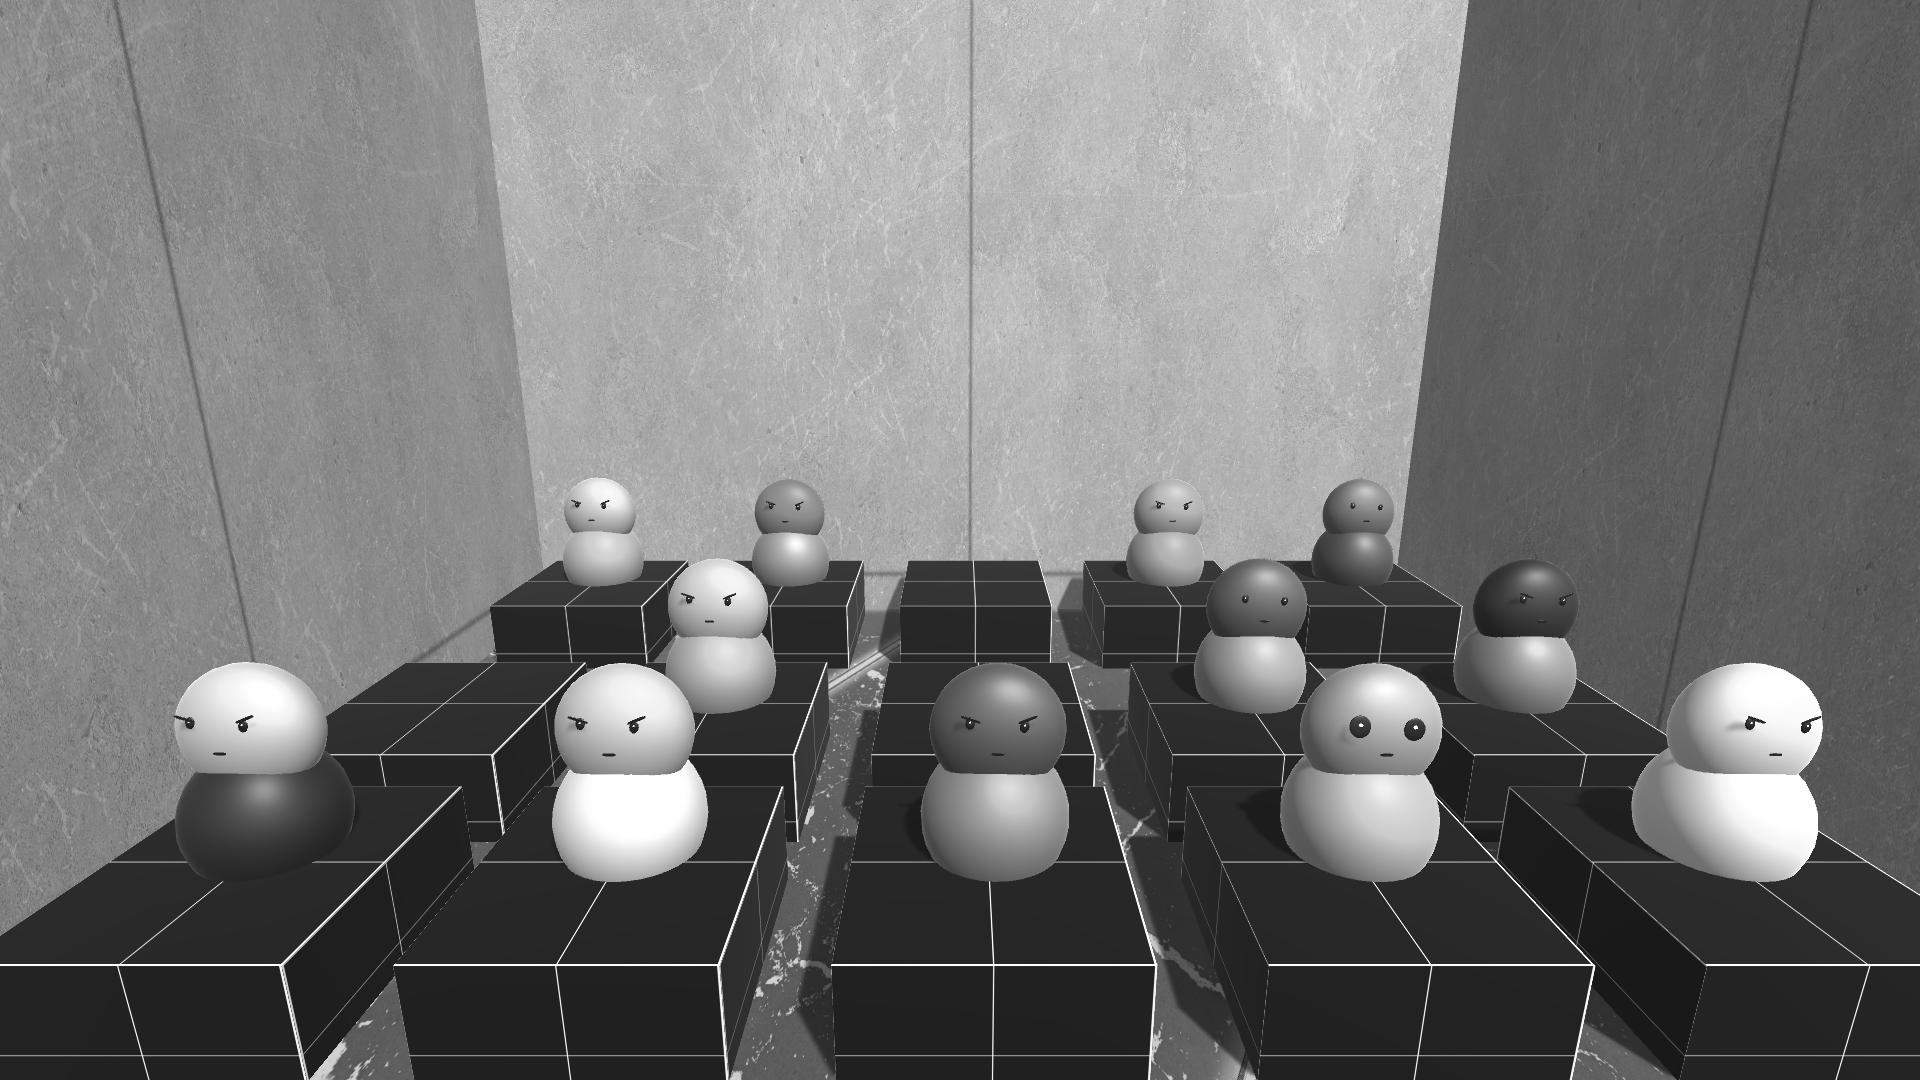blob_atento: (1299, 666, 1447, 774)
blob_normal: (1208, 558, 1307, 641), (1315, 477, 1410, 542)
blob_raiva: (170, 658, 338, 777), (920, 662, 1075, 786), (1658, 665, 1826, 777), (553, 658, 705, 778), (657, 560, 777, 646), (1472, 556, 1577, 651), (549, 472, 638, 535), (752, 479, 829, 545), (1131, 479, 1203, 534)
